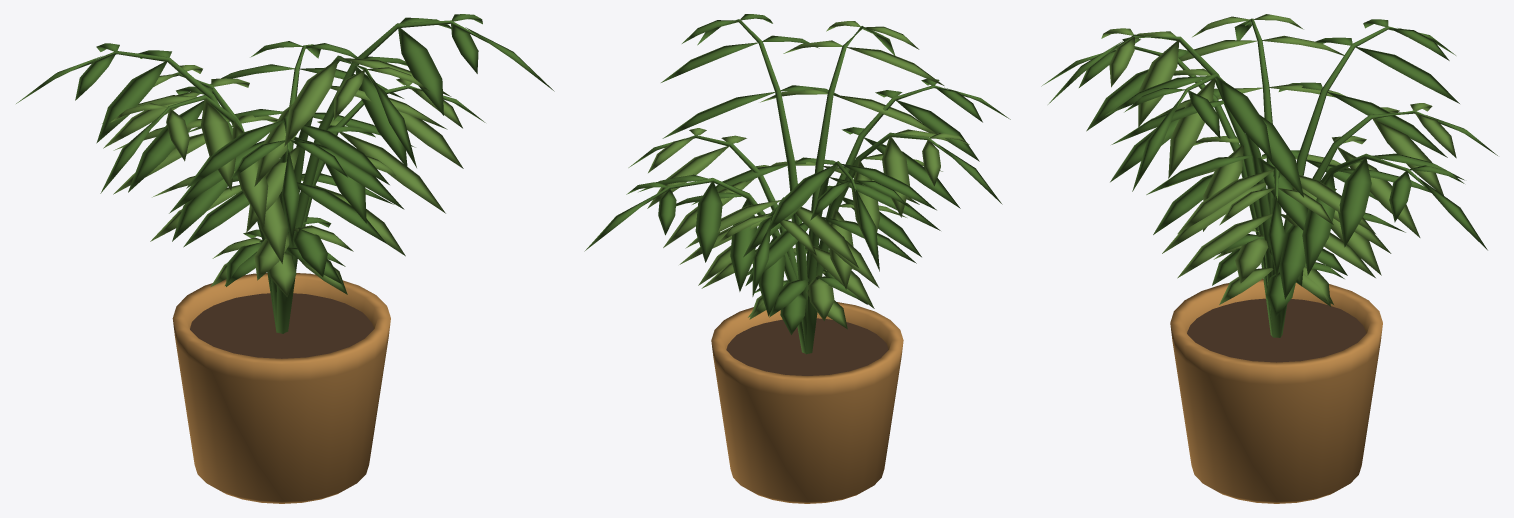
File: palm.glb
The picture shows the model from 3 angles, left to right: view 1: azimuth 30°, elevation 25°; view 2: azimuth 150°, elevation 25°; view 3: azimuth 270°, elevation 25°; orthographic projection. The views are drawn at different scales.
Parts seen in each view (by area): view 1: palm_pot, palm_soil, palm_arched_frond_5, palm_palm_leaflet_2_4_-1, palm_palm_leaflet_5_4_-1, palm_palm_leaflet_1_4_1, palm_palm_leaflet_0_3_-1, palm_palm_leaflet_1_3_1, palm_palm_leaflet_4_4_1, palm_palm_leaflet_7_4_-1, palm_palm_leaflet_5_3_-1, palm_palm_leaflet_7_4_1 (+29 smaller); view 2: palm_pot, palm_soil, palm_palm_leaflet_3_4_1, palm_arched_frond_5, palm_palm_leaflet_1_4_-1, palm_arched_frond_2, palm_palm_leaflet_3_3_1, palm_palm_leaflet_6_4_1, palm_arched_frond_1, palm_arched_frond_4, palm_palm_leaflet_4_4_-1, palm_palm_leaflet_7_4_-1 (+32 smaller); view 3: palm_pot, palm_soil, palm_palm_leaflet_3_4_-1, palm_palm_leaflet_5_4_1, palm_palm_leaflet_2_3_1, palm_arched_frond_2, palm_palm_leaflet_3_3_-1, palm_arched_frond_1, palm_palm_leaflet_2_4_1, palm_palm_leaflet_3_2_-1, palm_palm_leaflet_0_4_-1, palm_palm_leaflet_0_2_-1 (+35 smaller).
Boxes of the visible parts, x1=… form: palm_pot: x1=172, y1=273, x2=390, y2=503; palm_soil: x1=190, y1=293, x2=373, y2=358; palm_arched_frond_5: x1=286, y1=20, x2=487, y2=332; palm_palm_leaflet_2_4_-1: x1=284, y1=59, x2=338, y2=146; palm_palm_leaflet_5_4_-1: x1=398, y1=27, x2=443, y2=115; palm_palm_leaflet_1_4_1: x1=96, y1=61, x2=167, y2=143; palm_palm_leaflet_0_3_-1: x1=339, y1=132, x2=445, y2=213; palm_palm_leaflet_1_3_1: x1=128, y1=100, x2=204, y2=192; palm_palm_leaflet_4_4_1: x1=201, y1=99, x2=235, y2=190; palm_palm_leaflet_7_4_-1: x1=186, y1=120, x2=283, y2=188; palm_palm_leaflet_5_3_-1: x1=355, y1=66, x2=407, y2=168; palm_palm_leaflet_7_4_1: x1=301, y1=124, x2=389, y2=184; palm_pot: x1=711, y1=302, x2=903, y2=503; palm_soil: x1=726, y1=318, x2=888, y2=375; palm_palm_leaflet_3_4_1: x1=695, y1=181, x2=722, y2=262; palm_arched_frond_5: x1=721, y1=19, x2=806, y2=270; palm_palm_leaflet_1_4_-1: x1=765, y1=164, x2=836, y2=233; palm_arched_frond_2: x1=806, y1=26, x2=876, y2=267; palm_palm_leaflet_3_3_1: x1=730, y1=198, x2=757, y2=291; palm_palm_leaflet_6_4_1: x1=795, y1=207, x2=858, y2=267; palm_arched_frond_1: x1=805, y1=161, x2=856, y2=353; palm_arched_frond_4: x1=812, y1=132, x2=950, y2=350; palm_palm_leaflet_4_4_-1: x1=882, y1=136, x2=909, y2=217; palm_palm_leaflet_7_4_-1: x1=895, y1=100, x2=979, y2=161; palm_pot: x1=1170, y1=279, x2=1382, y2=503; palm_soil: x1=1187, y1=298, x2=1366, y2=362; palm_palm_leaflet_3_4_-1: x1=1338, y1=157, x2=1371, y2=247; palm_palm_leaflet_5_4_1: x1=1216, y1=77, x2=1272, y2=160; palm_palm_leaflet_2_3_1: x1=1168, y1=78, x2=1215, y2=178; palm_arched_frond_2: x1=1102, y1=34, x2=1272, y2=335; palm_palm_leaflet_3_3_-1: x1=1302, y1=172, x2=1335, y2=275; palm_arched_frond_1: x1=1283, y1=26, x2=1396, y2=233; palm_palm_leaflet_2_4_1: x1=1138, y1=40, x2=1179, y2=127; palm_palm_leaflet_3_2_-1: x1=1279, y1=225, x2=1305, y2=299; palm_palm_leaflet_0_4_-1: x1=1177, y1=169, x2=1274, y2=234; palm_palm_leaflet_0_2_-1: x1=1177, y1=213, x2=1272, y2=278.
Bounding box in the file's own units: 1.03 × 1.1 × 1.04.
